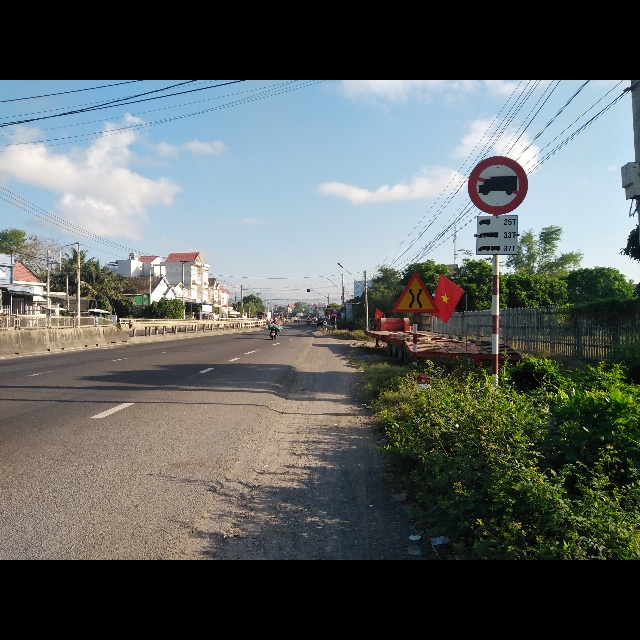Cấm xe tải: (466, 154, 528, 214)
Cầu hẹp: (390, 271, 437, 315)
